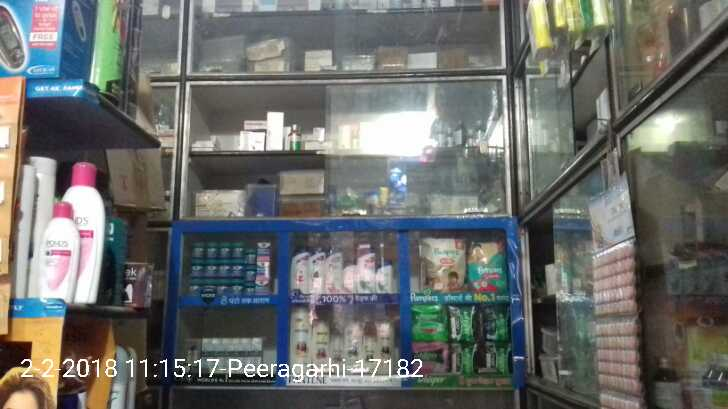vicks: (190, 237, 272, 296)
